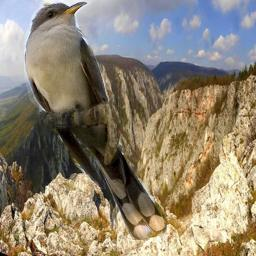Cuckoo: (24, 1, 167, 240)
